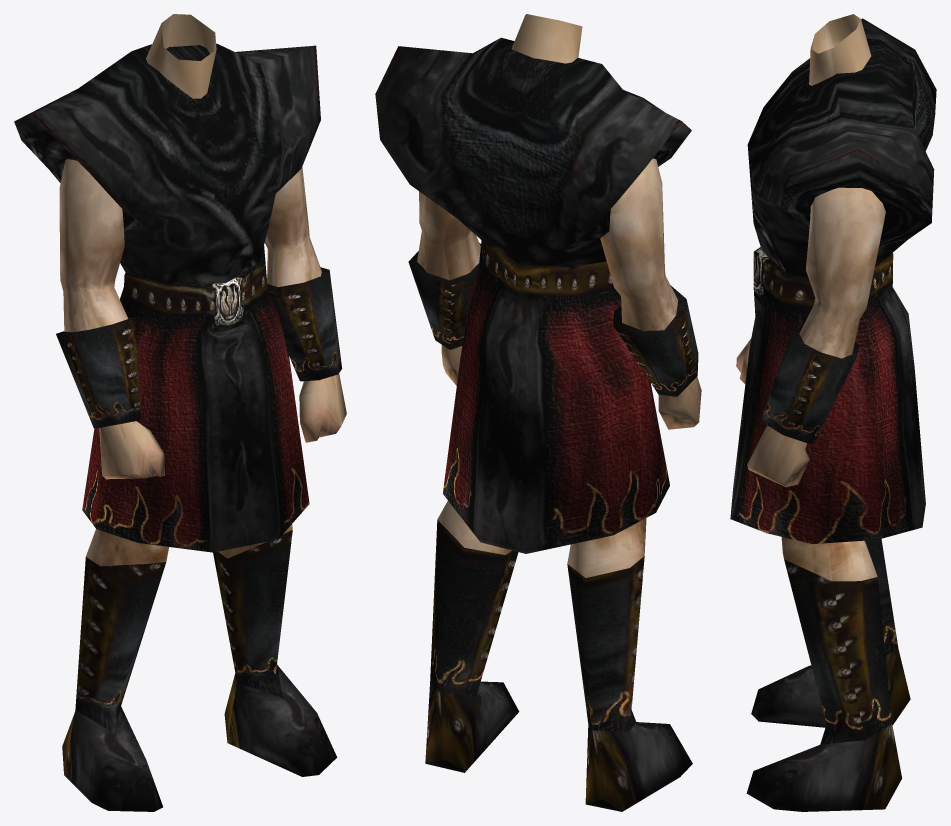
The model's file is NOGIEN1_WINTER.glb.
3 views of the same model, side by side, from view 1: azimuth 30°, elevation 25°; view 2: azimuth 150°, elevation 25°; view 3: azimuth 270°, elevation 25° (orthographic). The views are drawn at different scales.
Parts seen in each view (by area): view 1: NOGIEN1_WINTER; view 2: NOGIEN1_WINTER; view 3: NOGIEN1_WINTER.
Part boxes in pixels (x1,y1,x2,y2): NOGIEN1_WINTER: [14, 14, 346, 811]; NOGIEN1_WINTER: [375, 14, 701, 811]; NOGIEN1_WINTER: [730, 14, 936, 811].
Bounding box in the file's own units: 0.6657 × 1.7 × 0.427.
2 materials, 2 textured.
